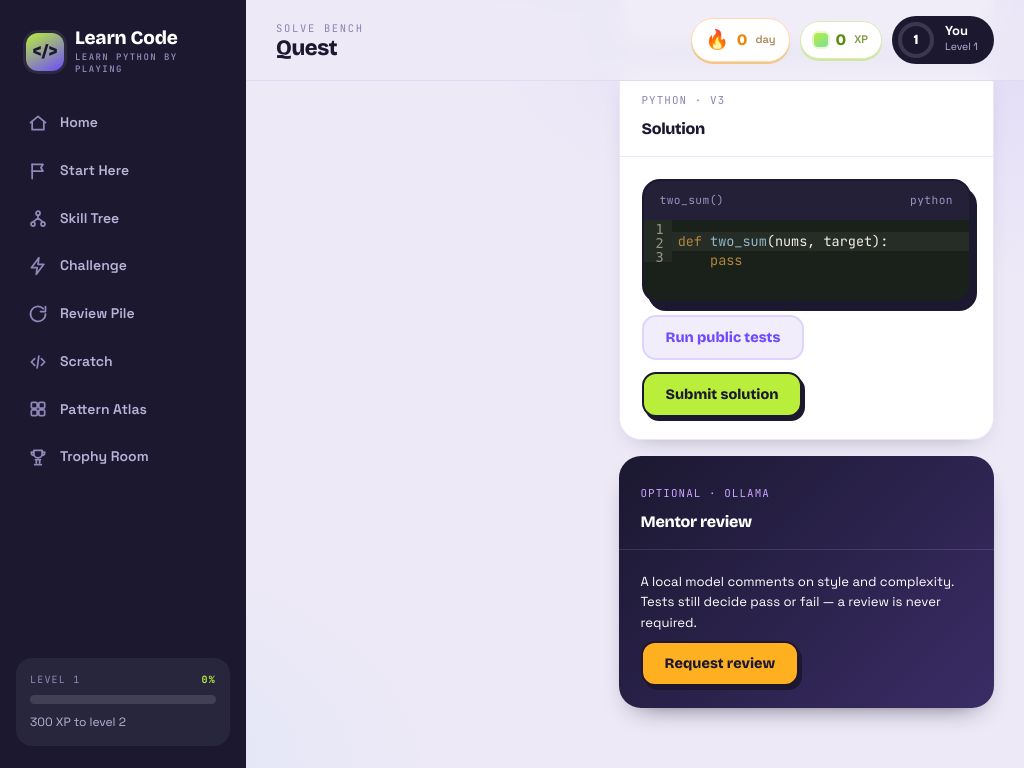
Test case: ExerciseRoute submit flow › keeps the submission verdict when a mentor review is unavailable
(page scrolled)
Click the button with aria-label "Submit for grading" at (722, 394), box [642,372,802,417]
(page scrolled)
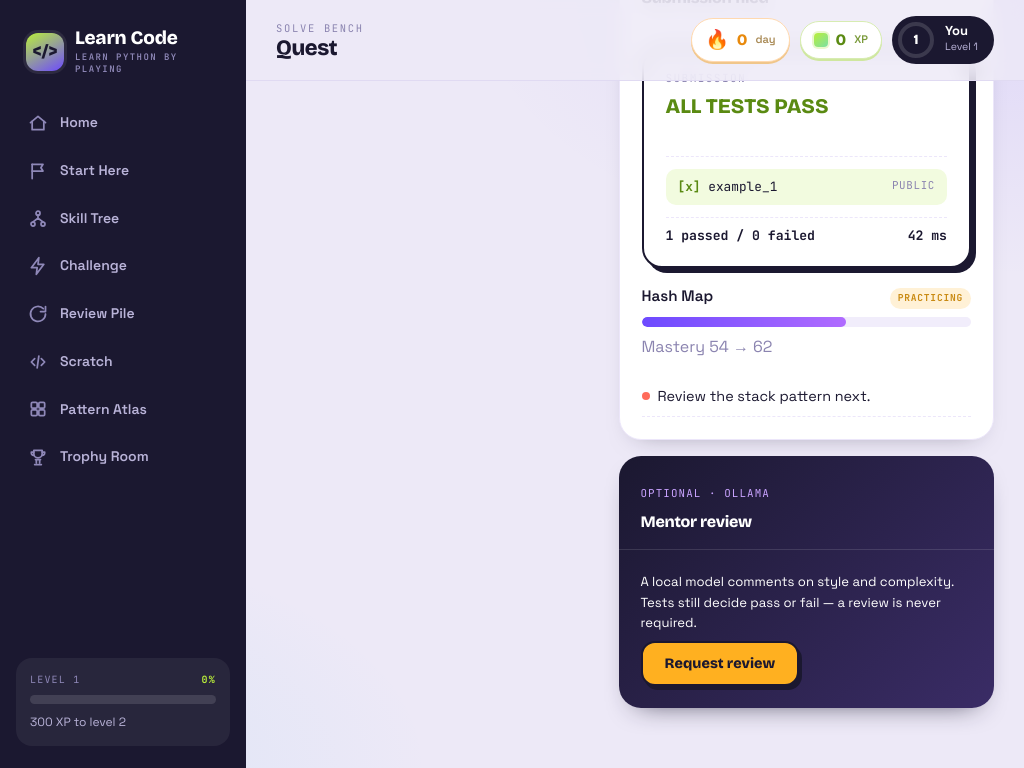
Check: the text "ALL TESTS PASS" is shown, box [666,94,828,119]
Click the button with aria-label "Request a mentor review" at (720, 664), box [640,641,799,686]
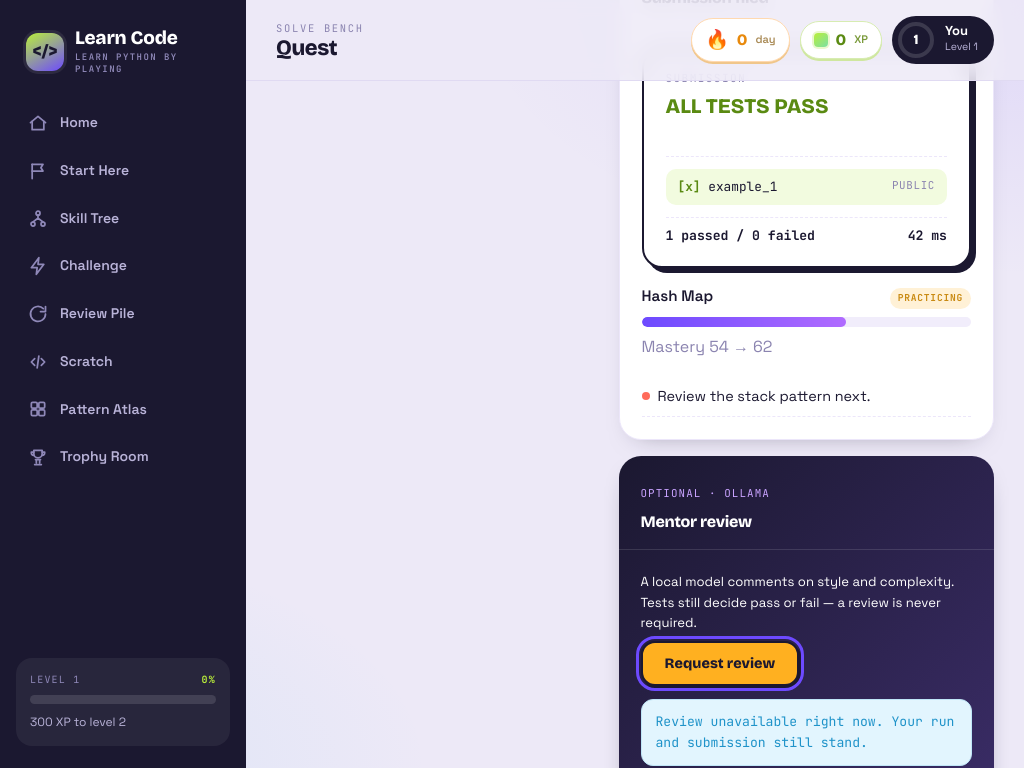
Check: the text "ALL TESTS PASS" is shown, box [666,94,828,119]
Check: the text "Review unavailable right now. Your run and submission still stand." is shown, box [640,699,972,766]
